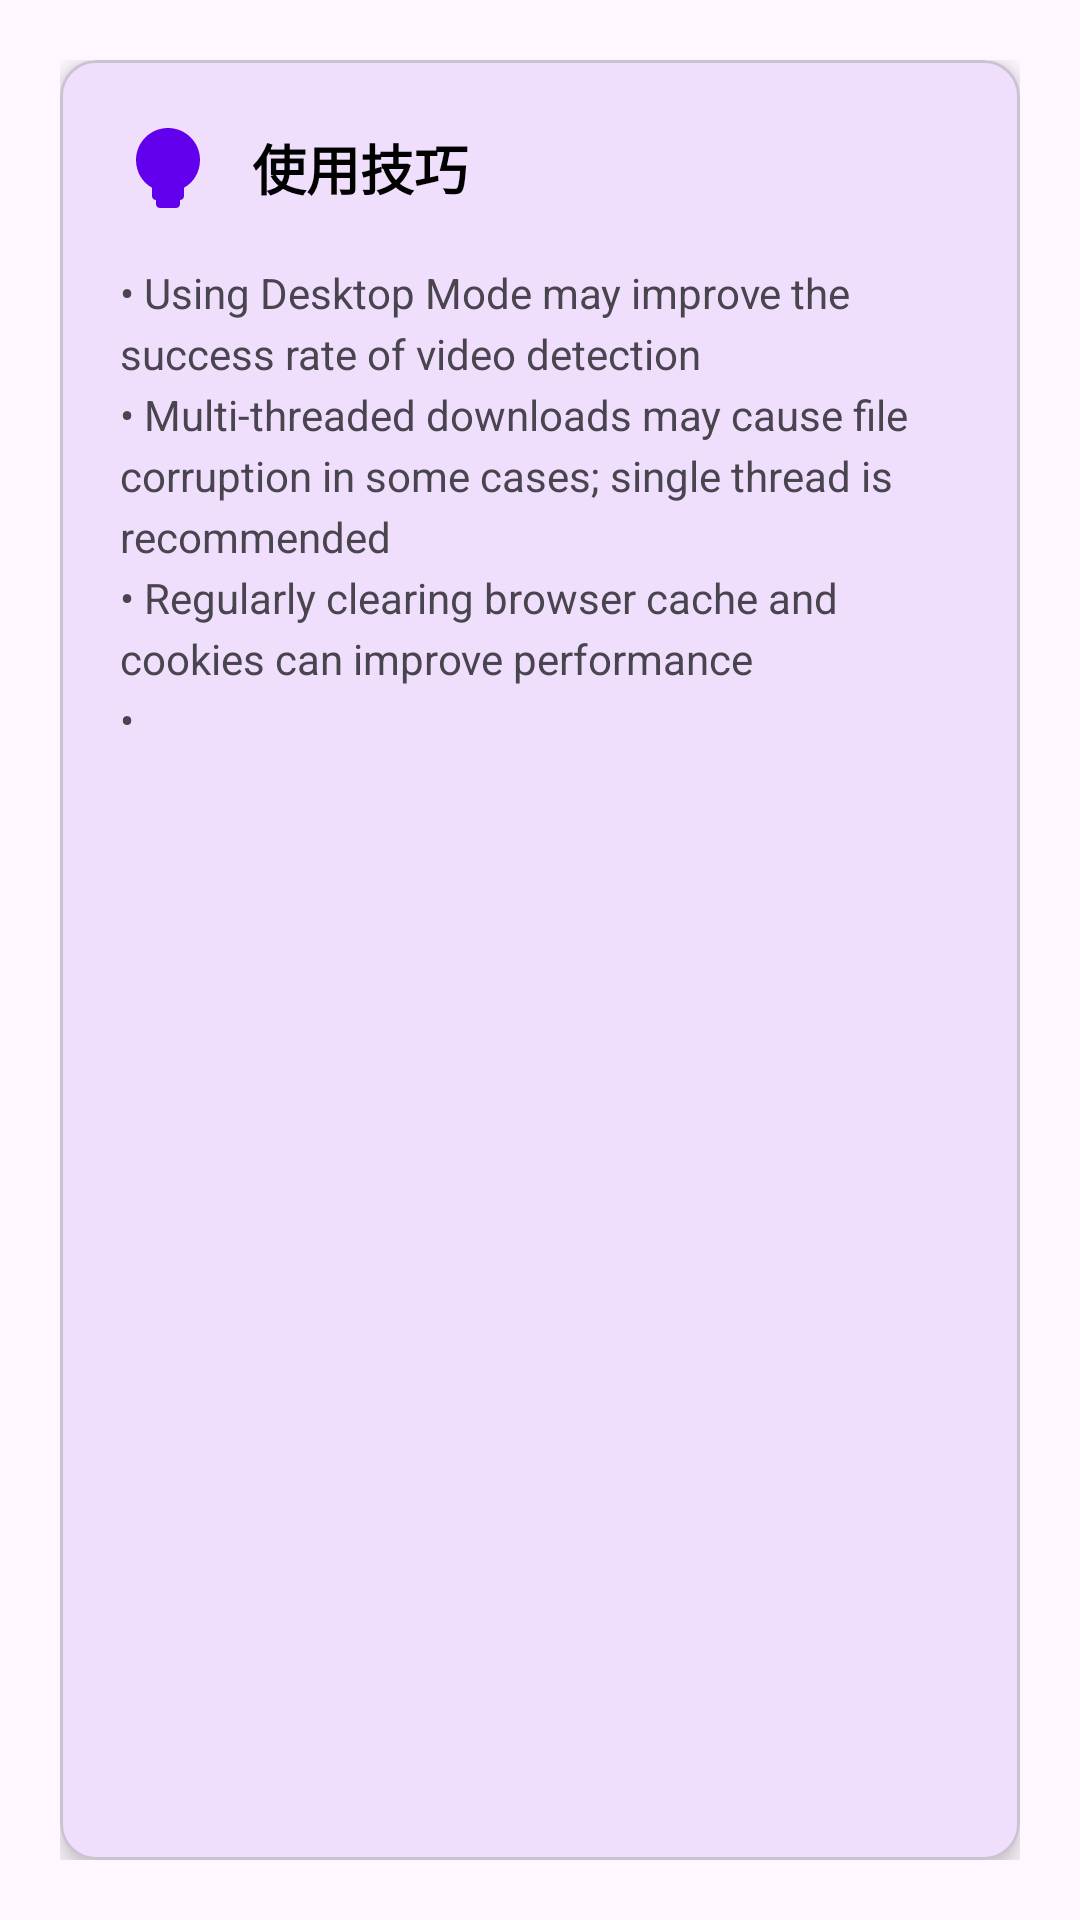

Where icons sit on this 1080w x 1920h app screen, as (x1, y1, x2, y2):
lightbulb: (136, 128, 200, 208)
